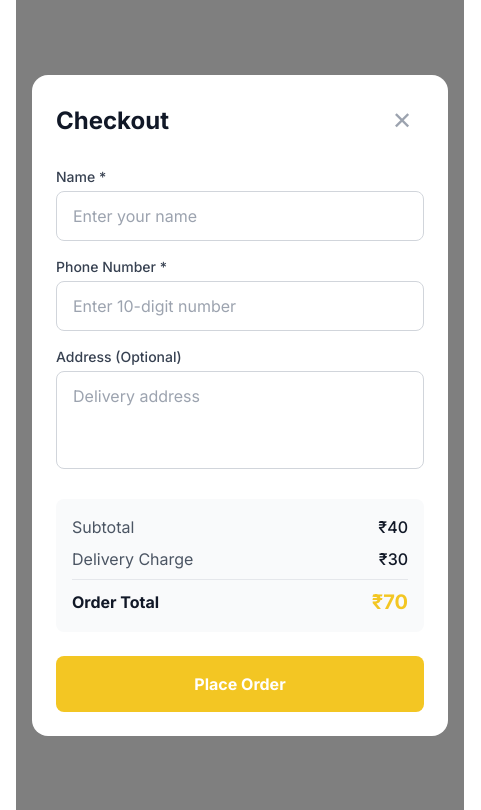
Test: CheckoutForm Component › displays error when order creation fails
In the field with placeholder "Enter your name": {"x": 240, "y": 216} [56,190,424,240], type "John Doe"
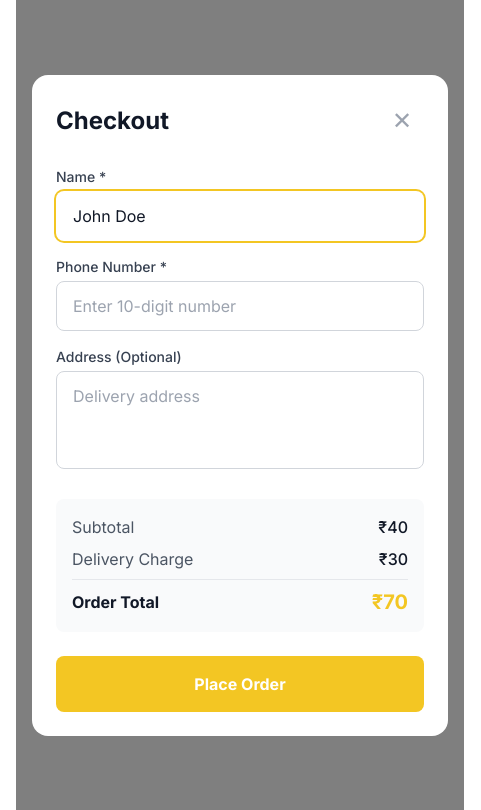
In the field with placeholder "Enter 10-digit number": {"x": 240, "y": 306} [56,280,424,330], type "9876543210"
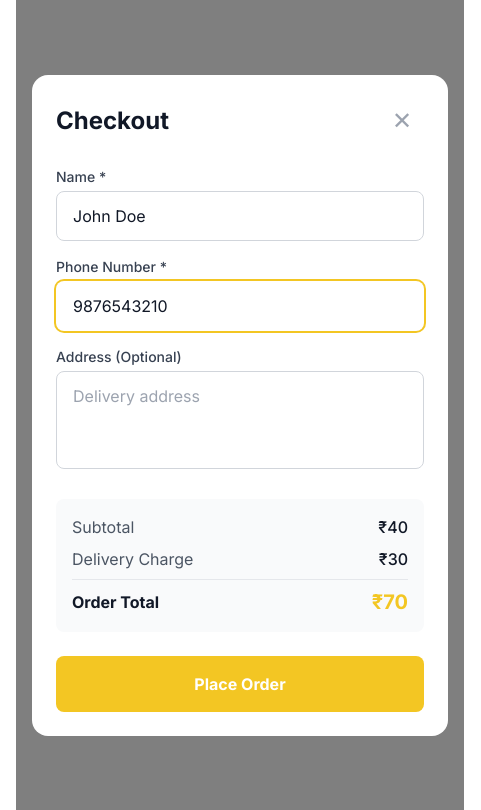
Click the button "Place Order": {"x": 240, "y": 684} [56,656,424,712]
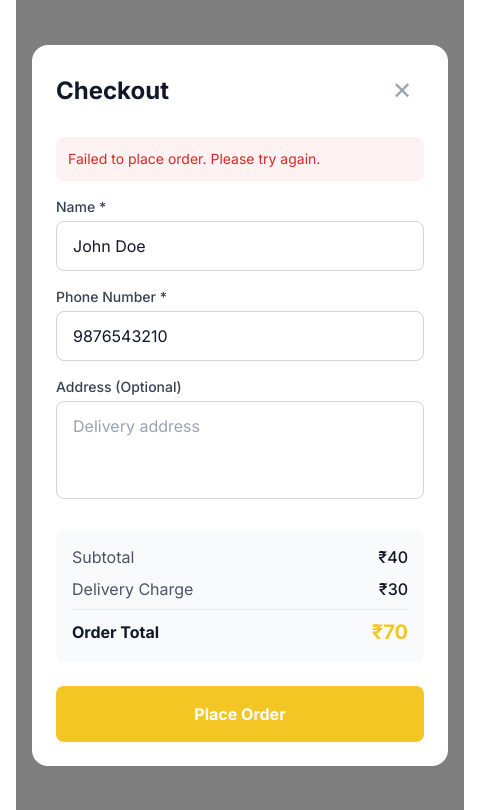
Now the text "Failed to place order. Please try again." is shown, box [56,136,424,180]
